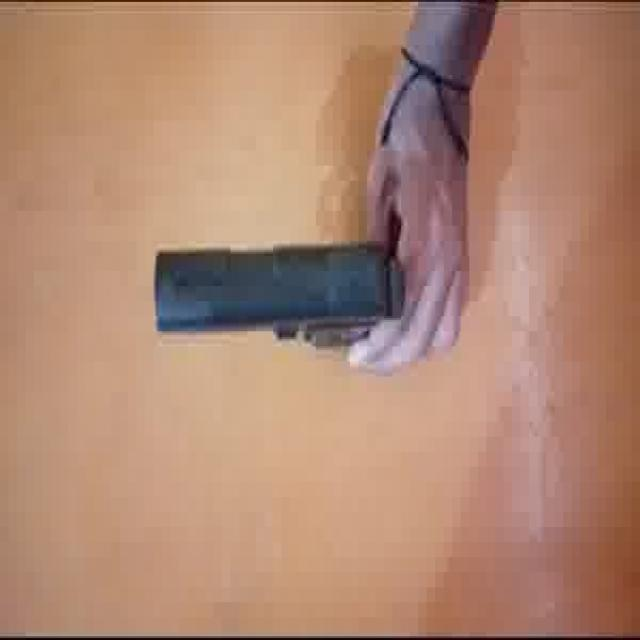weapon: (153, 240, 404, 349)
